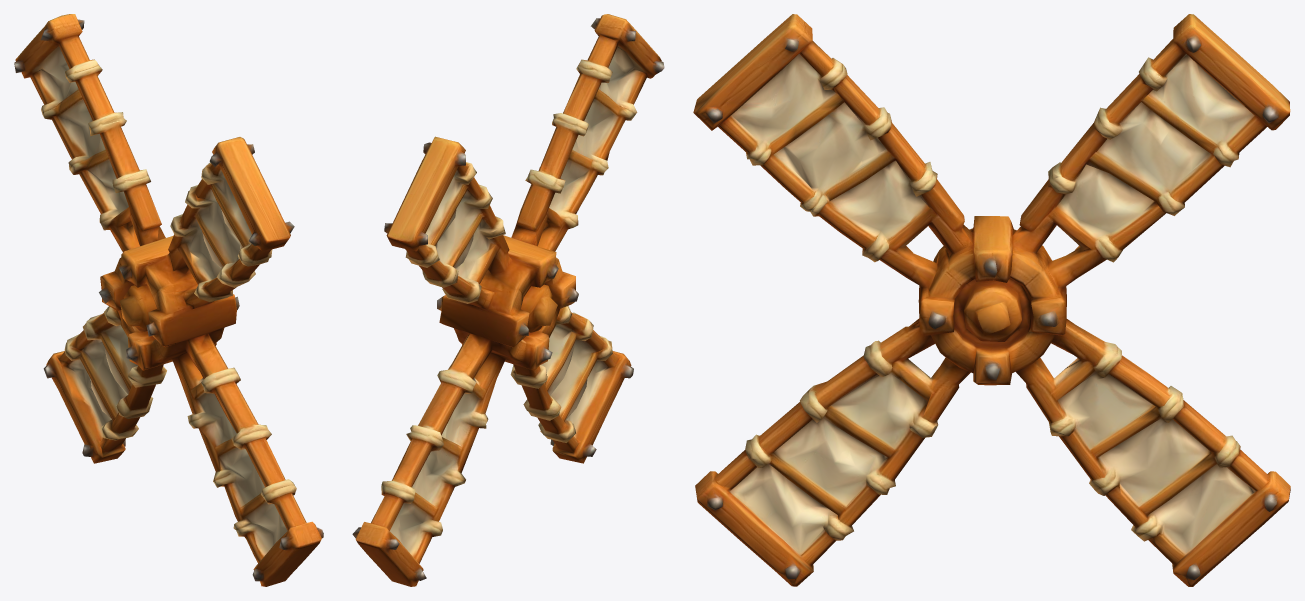
File: p_sails.glb
The picture shows the model from 3 angles, left to right: view 1: azimuth 30°, elevation 25°; view 2: azimuth 150°, elevation 25°; view 3: azimuth 270°, elevation 25°; orthographic projection. The views are drawn at different scales.
Parts seen in each view (by area): view 1: tripo_node_2b90fac5-b792-4620-913e-6ca050fb07e5; view 2: tripo_node_2b90fac5-b792-4620-913e-6ca050fb07e5; view 3: tripo_node_2b90fac5-b792-4620-913e-6ca050fb07e5.
Part boxes in pixels (box(x1,y1,x2,y2)): tripo_node_2b90fac5-b792-4620-913e-6ca050fb07e5: box(14, 14, 323, 586); tripo_node_2b90fac5-b792-4620-913e-6ca050fb07e5: box(352, 14, 664, 586); tripo_node_2b90fac5-b792-4620-913e-6ca050fb07e5: box(693, 14, 1290, 586).
Bounding box in the file's own units: 0.2205 × 0.9923 × 1.
1 material, 1 textured.
